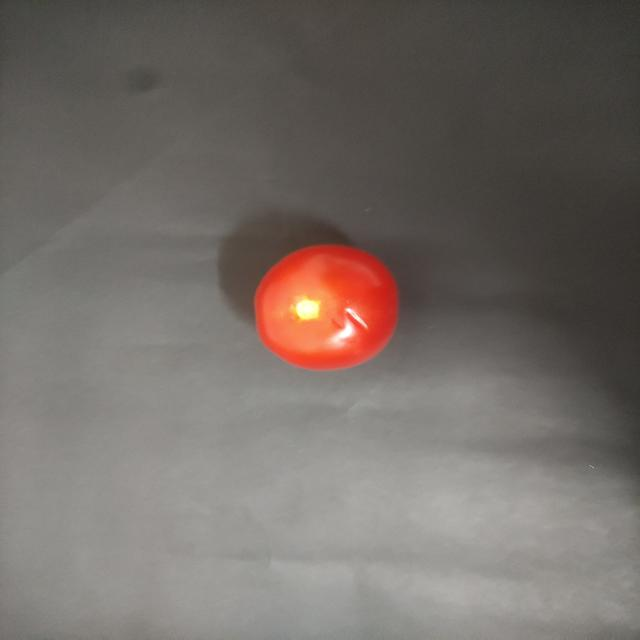kirmizi: (249, 236, 402, 392)
